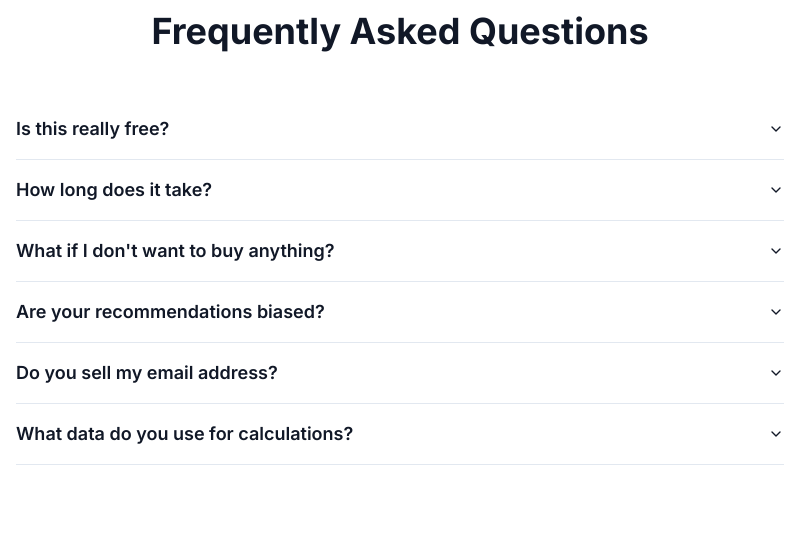
FAQ Component › can expand different FAQ items
This screenshot has width=801, height=544.
Click the button "Is this really free?" at (93, 128), box x1=16 y1=99 x2=784 y2=159
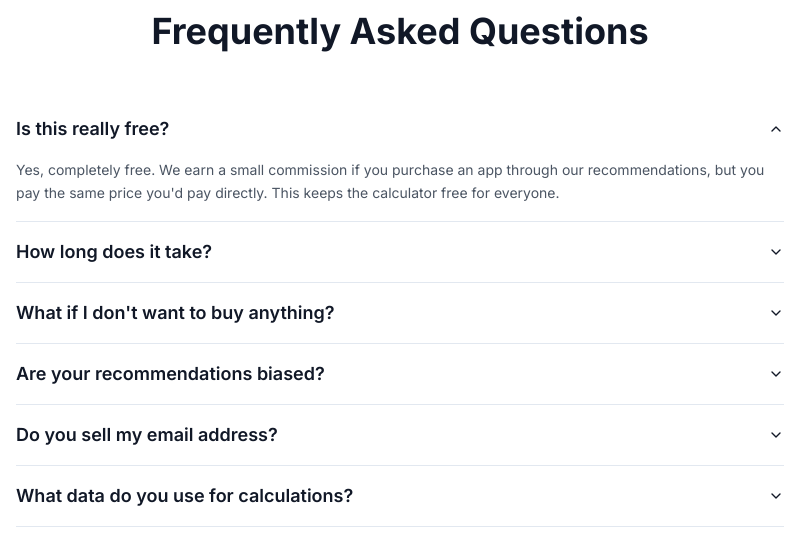
Check: the text "We earn a small commission" is shown, box x1=16 y1=161 x2=764 y2=201
Click the button "How long does it take?" at (114, 251), box x1=16 y1=222 x2=784 y2=282
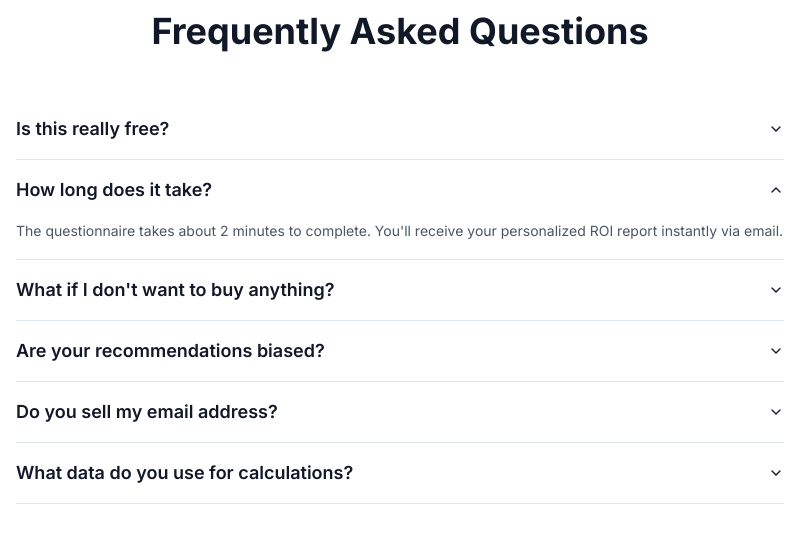
Check: the text "2 minutes to complete" is shown, box x1=16 y1=222 x2=783 y2=239
